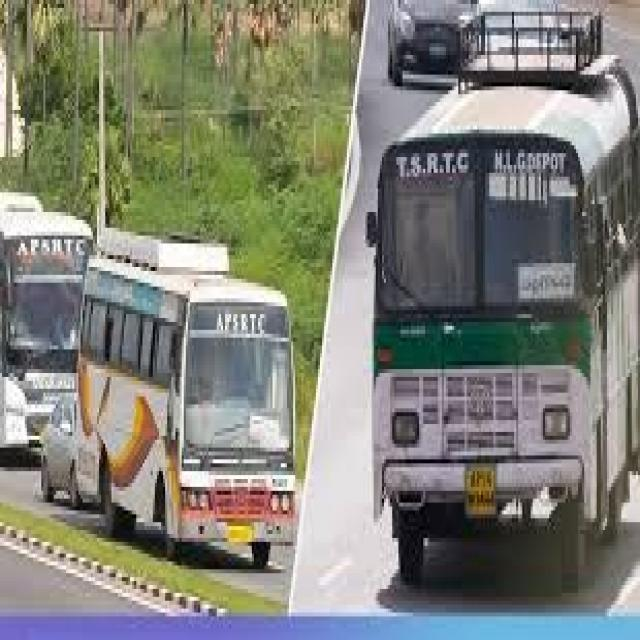bus: (358, 5, 640, 609), (70, 198, 306, 579), (0, 168, 80, 440)
